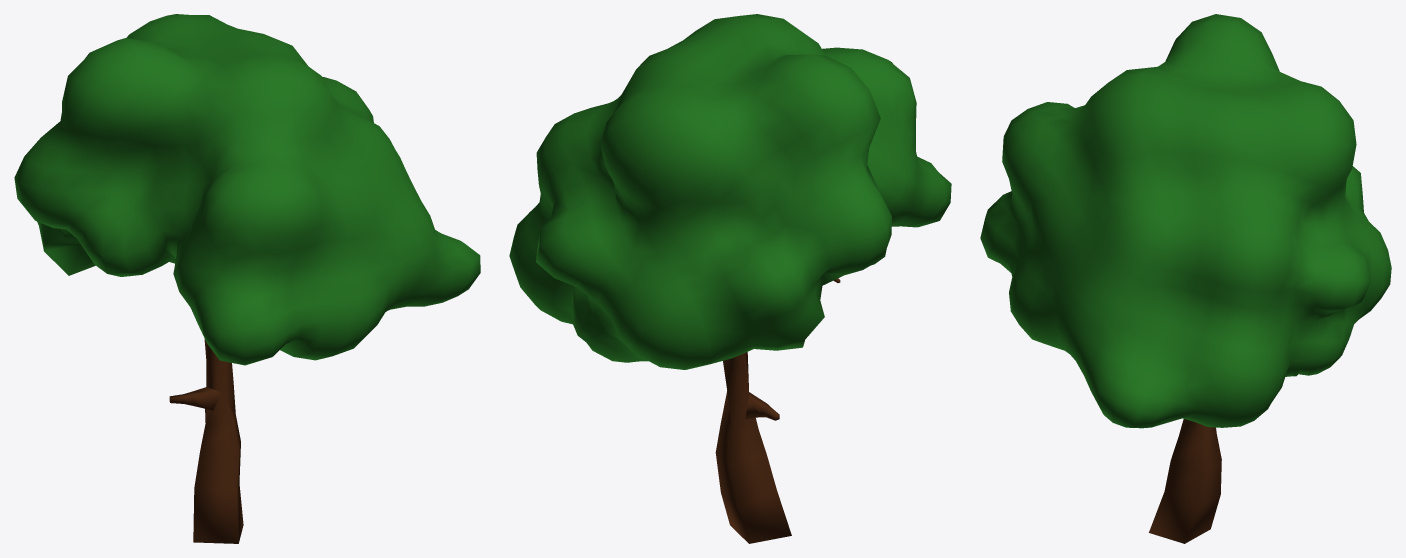
The model's file is arbol2.fbx.
3 renders of one model, left to right at view 1: azimuth 30°, elevation 25°; view 2: azimuth 150°, elevation 25°; view 3: azimuth 270°, elevation 25°, orthographic. The views are drawn at different scales.
Visible parts, largest first — view 1: tree2; view 2: tree2; view 3: tree2.
Part boxes in pixels (left/top/right/bottom): tree2: left=14, top=14, right=480, bottom=543; tree2: left=509, top=14, right=951, bottom=543; tree2: left=980, top=14, right=1391, bottom=543.
Size of the model in its own units: 571 by 676 by 528.
